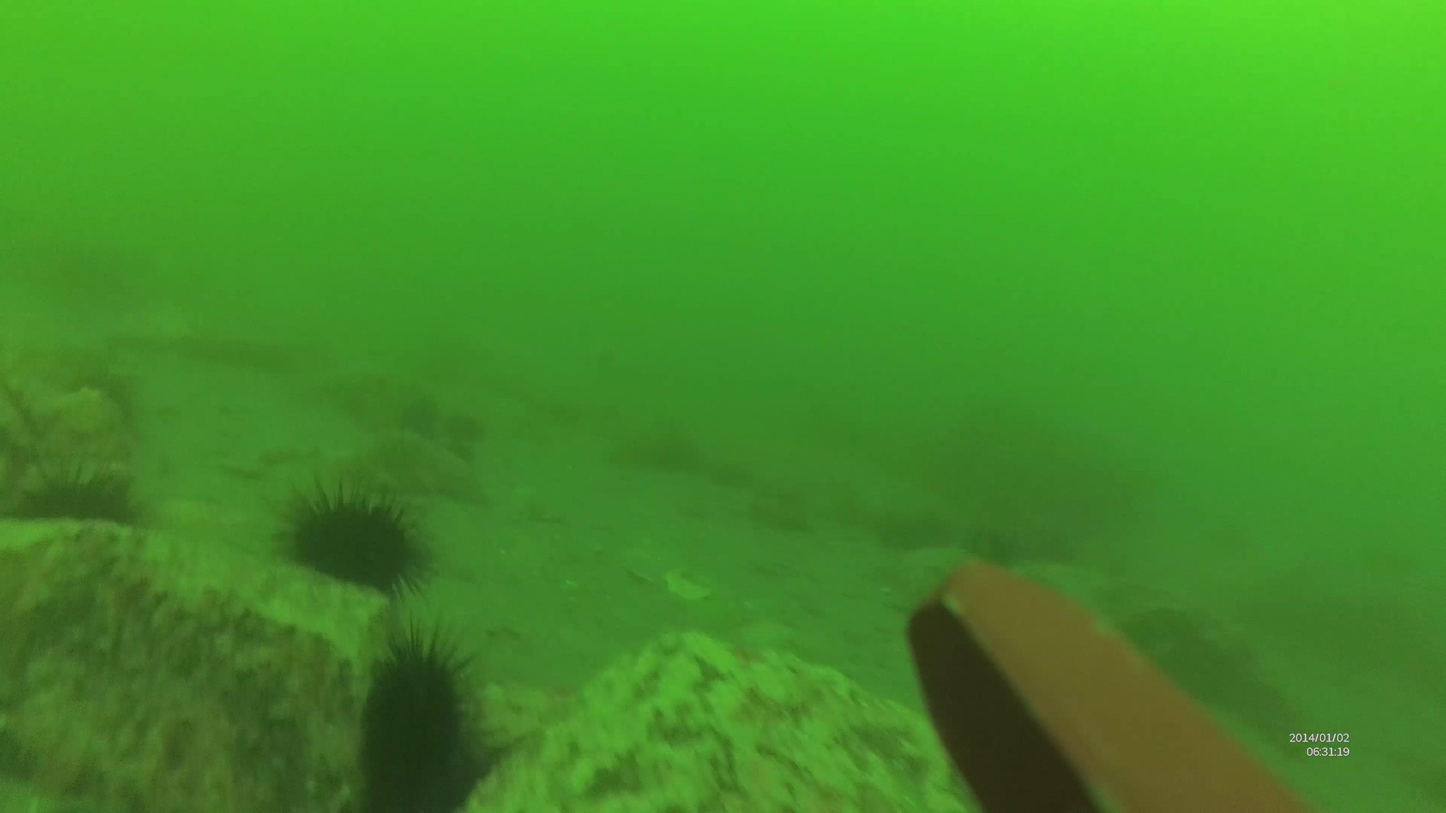starfish: (356, 632, 484, 801), (274, 480, 441, 601), (11, 457, 150, 569)
